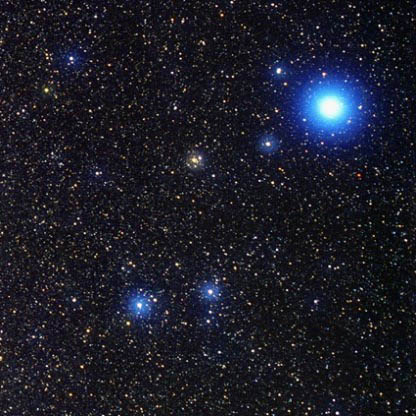Lyra: (295, 73, 369, 152), (121, 285, 156, 326), (195, 275, 222, 308), (254, 126, 276, 161), (180, 145, 206, 174), (270, 59, 288, 79)
